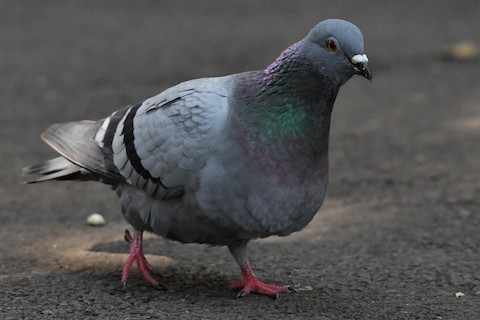pigeon: (18, 16, 376, 298)
